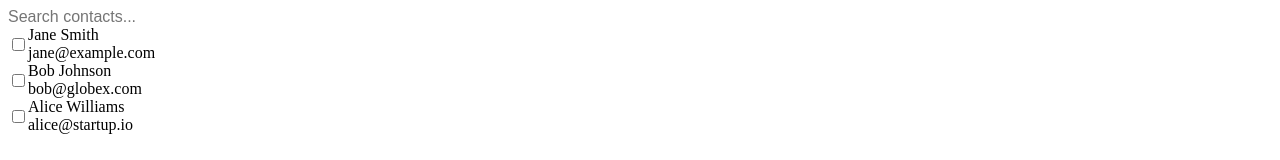
Test: ContactPicker › filters contacts by search
Type "bob" into the field with placeholder "Search contacts...". click: (640, 17)
box: [8,8,1272,26]
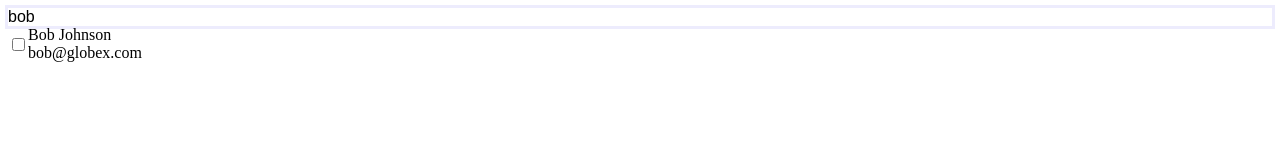
Expected: the text "Bob Johnson" is shown, [28,26,111,43]
Expected: the text "Jane Smith" is gone
